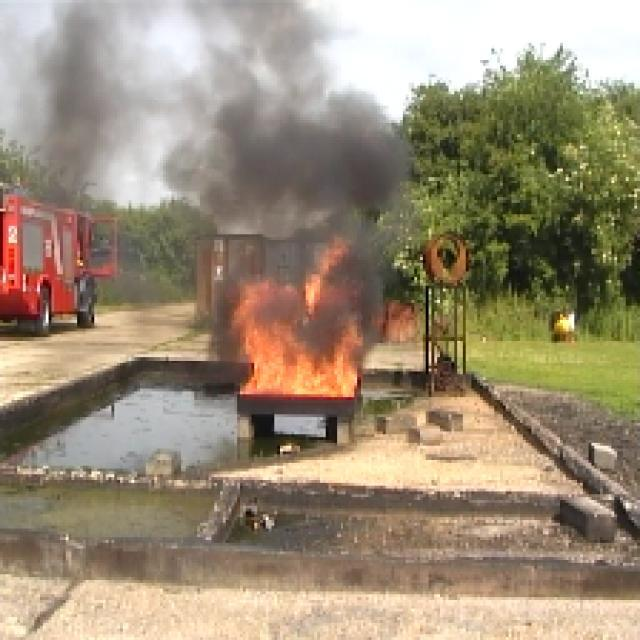Fire: (237, 313, 361, 398)
Smoke: (184, 4, 396, 314), (42, 7, 122, 195)
